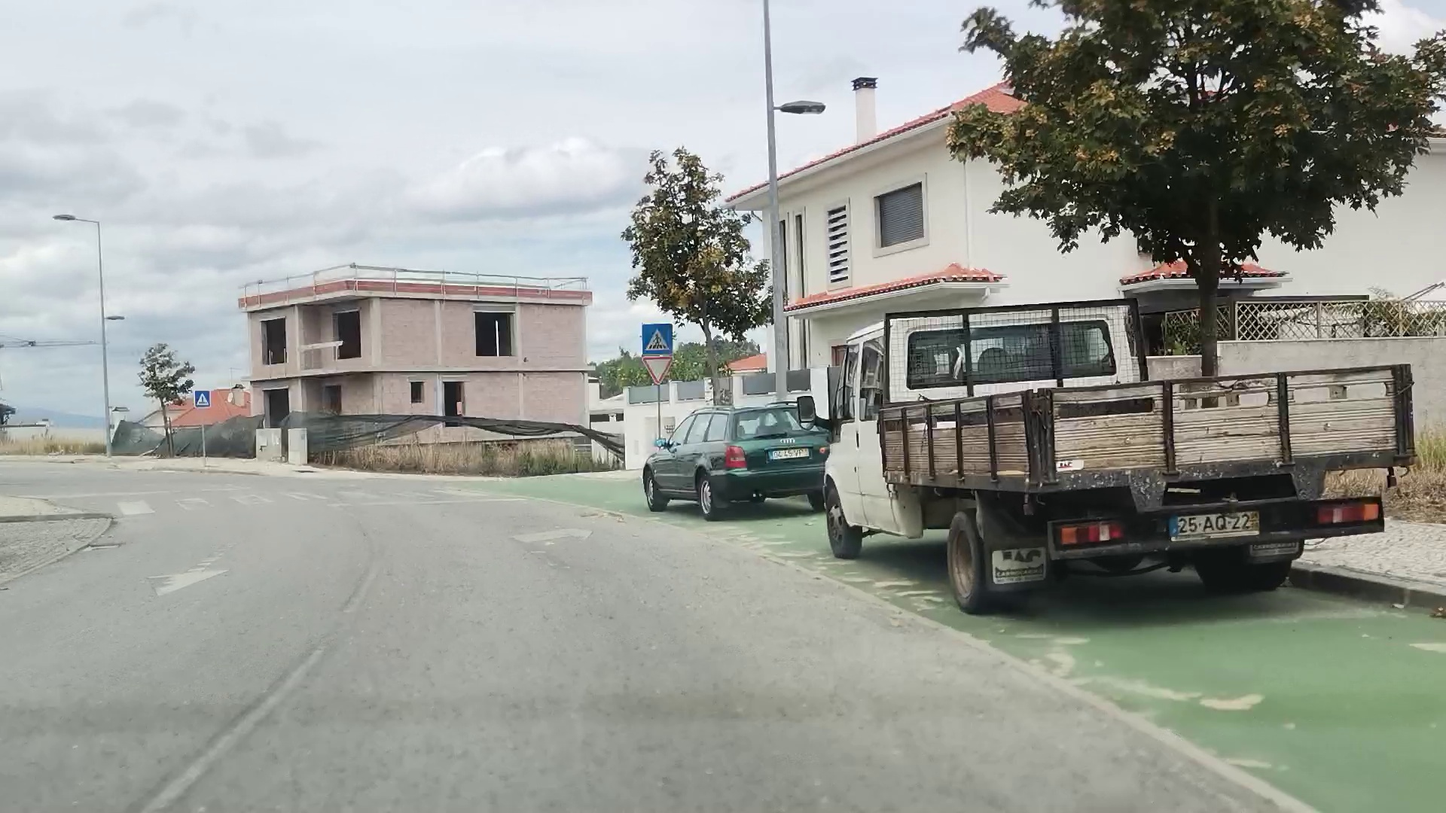Stairs: (115, 486, 496, 523)
